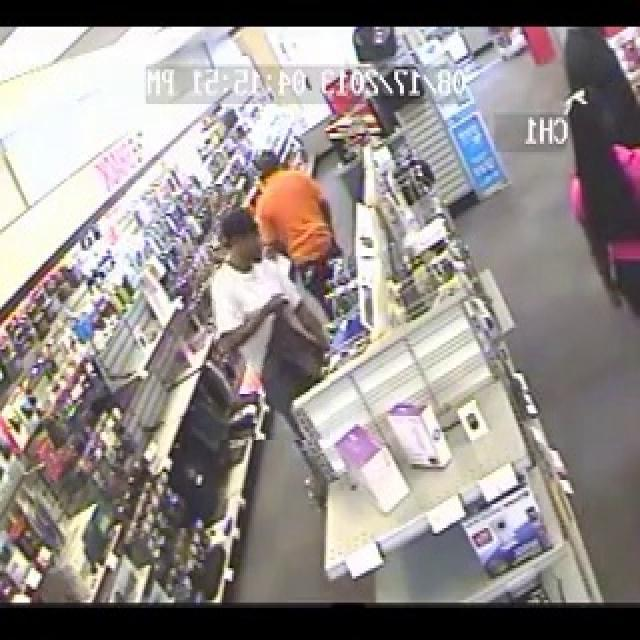Shoplifting: (212, 195, 330, 440)
